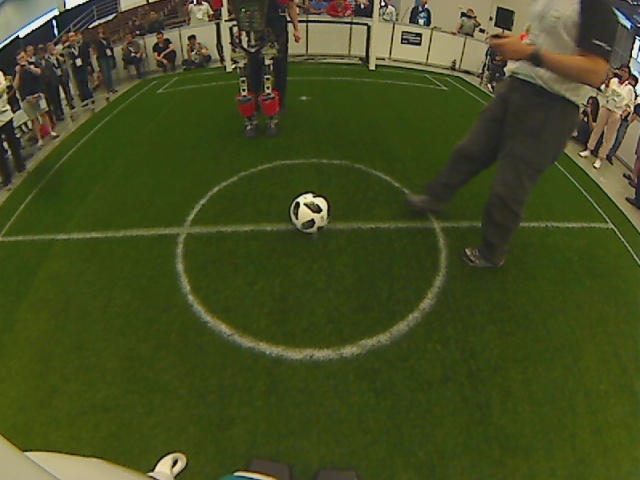ball: (288, 190, 331, 237)
goalpost: (359, 54, 384, 80), (222, 59, 237, 79)
robot: (236, 106, 284, 142)
